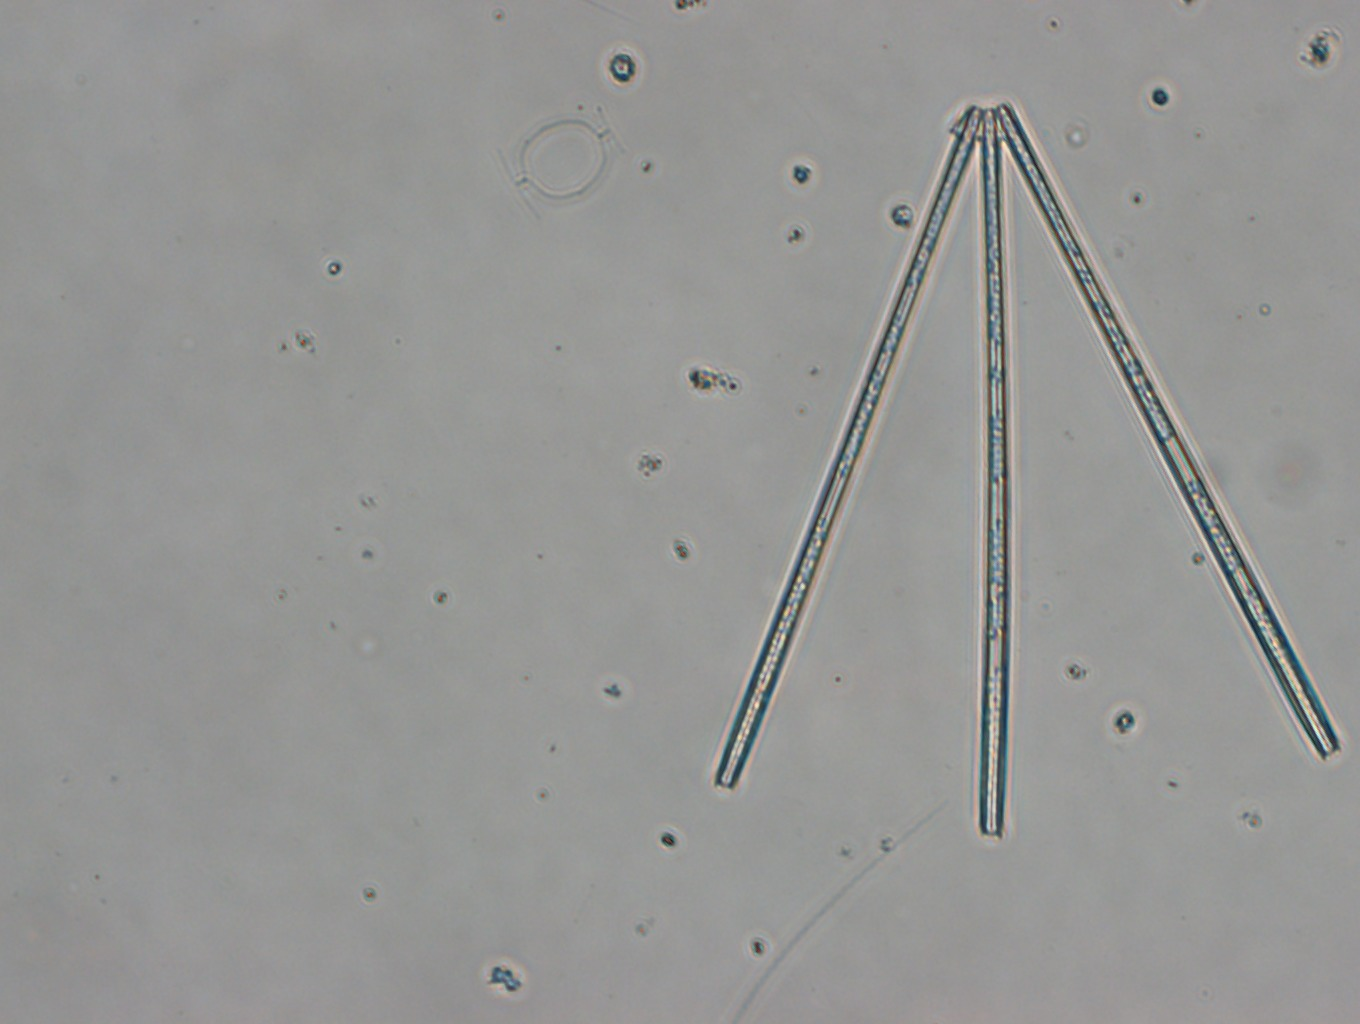eucampia: (493, 100, 626, 227)
thalassionema frauenfeldii: (713, 99, 1338, 834)
